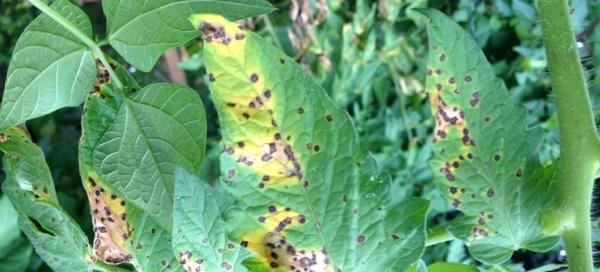Tomato Septoria leaf spot: (197, 17, 395, 271), (424, 11, 535, 262)
